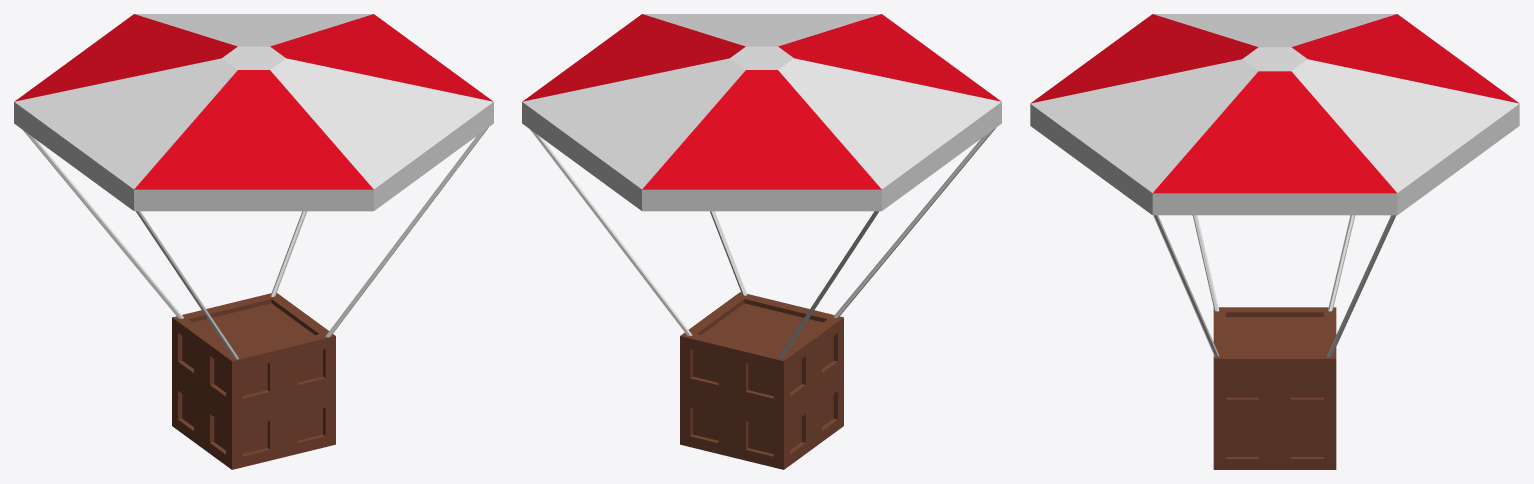
Rendered from CroustyColis.fbx.
The picture shows the model from 3 angles, left to right: view 1: azimuth 30°, elevation 25°; view 2: azimuth 150°, elevation 25°; view 3: azimuth 270°, elevation 25°; orthographic projection. The views are drawn at different scales.
Visible parts, largest first — view 1: Cylinder.004, Cube; view 2: Cylinder.004, Cube; view 3: Cylinder.004, Cube.
Boxes of the visible parts, <box> form: Cylinder.004: <box>14,14,493,359</box>; Cube: <box>172,293,335,469</box>; Cylinder.004: <box>522,14,1001,358</box>; Cube: <box>680,292,843,469</box>; Cylinder.004: <box>1030,14,1519,356</box>; Cube: <box>1213,307,1336,469</box>.
Bounding box in the file's own units: 173 × 173 × 200.
